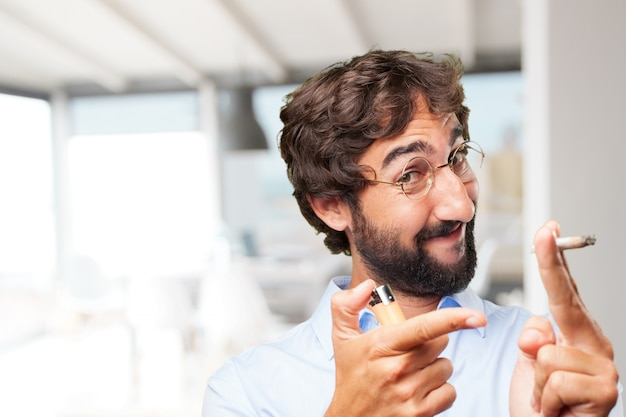cigarette: (527, 234, 598, 255)
